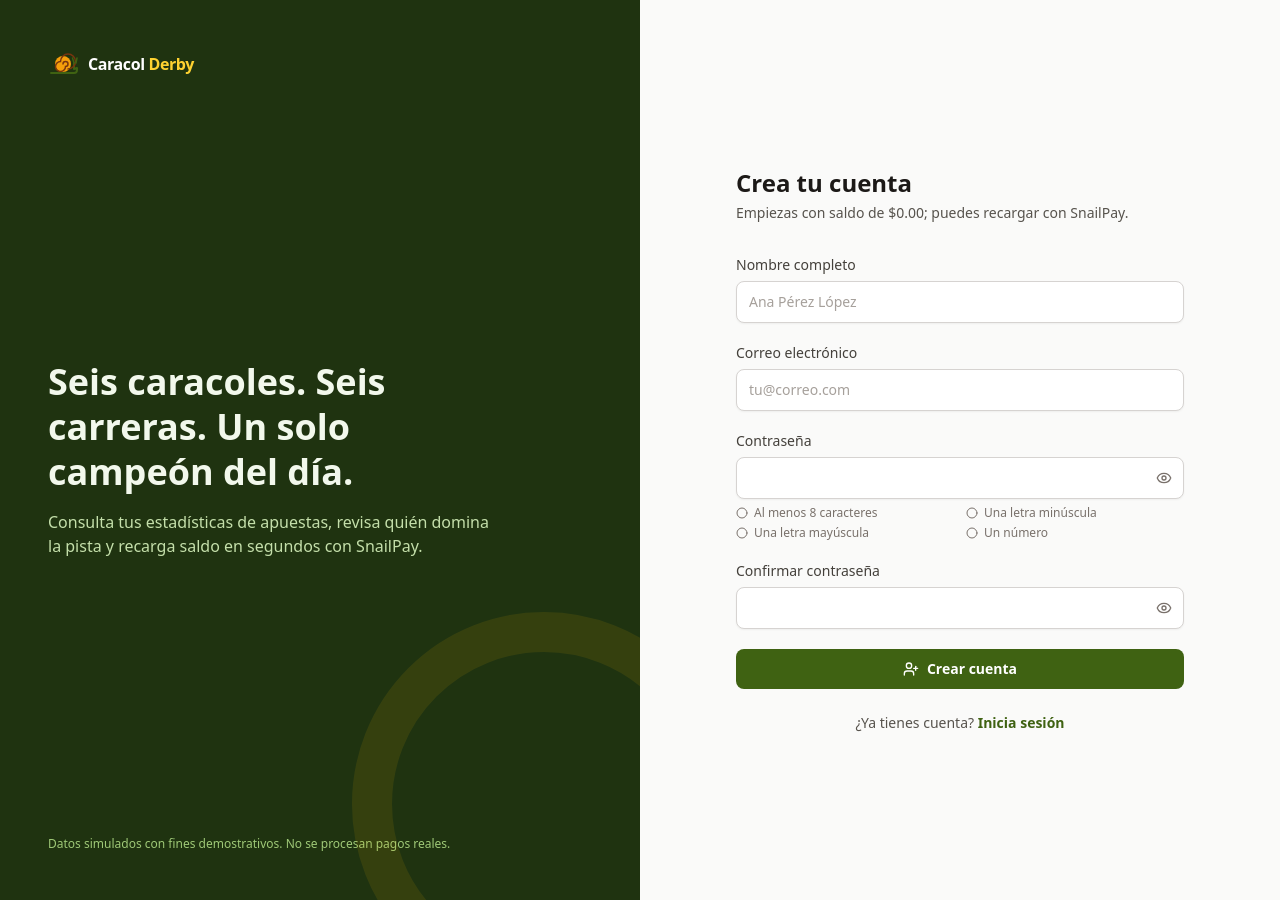
Test case: flujo de la aplicación › muestra errores de validación sin enviar el formulario de registro
Click the button "Crear cuenta".
click(960, 669)  # box 736,649 -> 1184,689
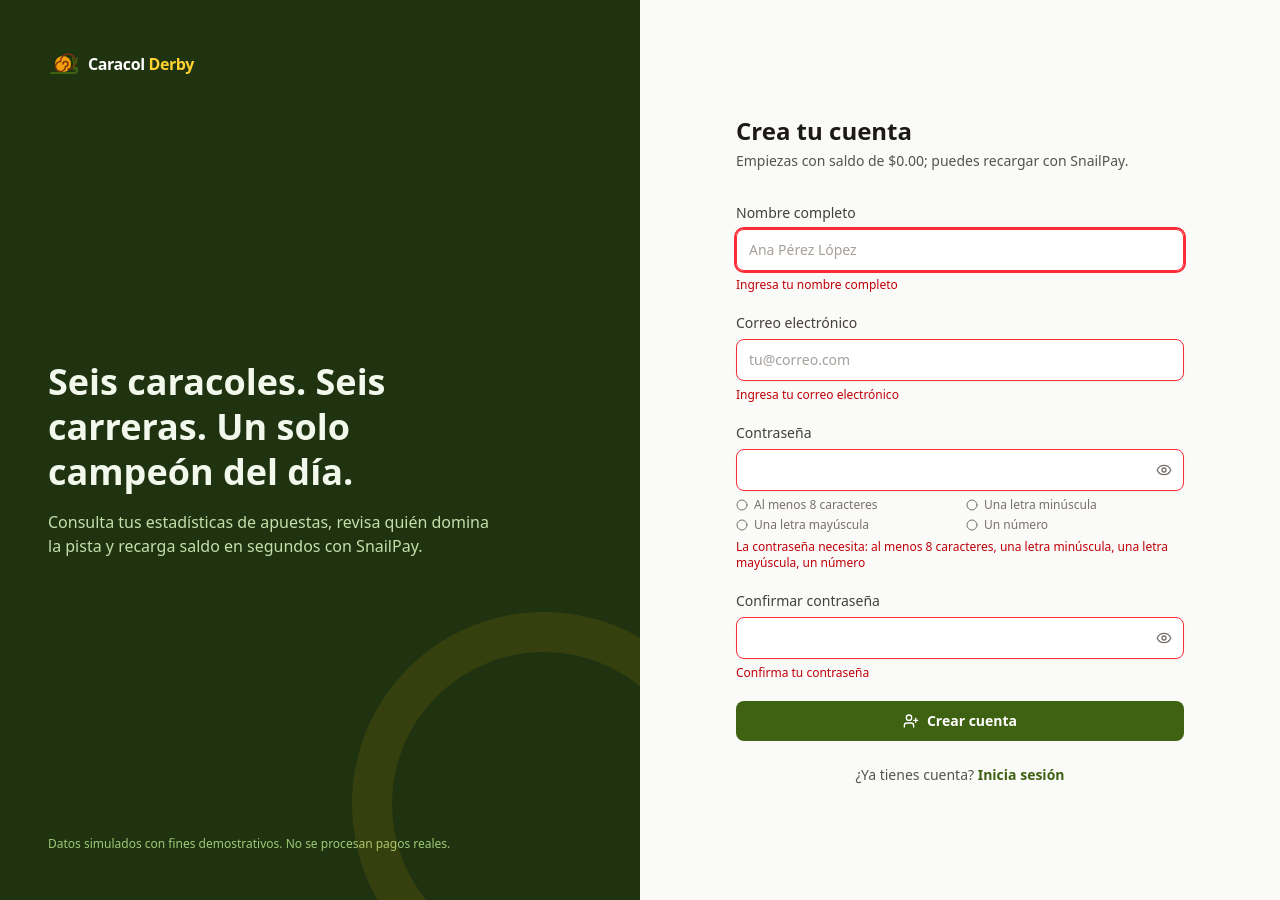
Expected: the text "Ingresa tu nombre completo" is shown, 736,276 -> 898,293
